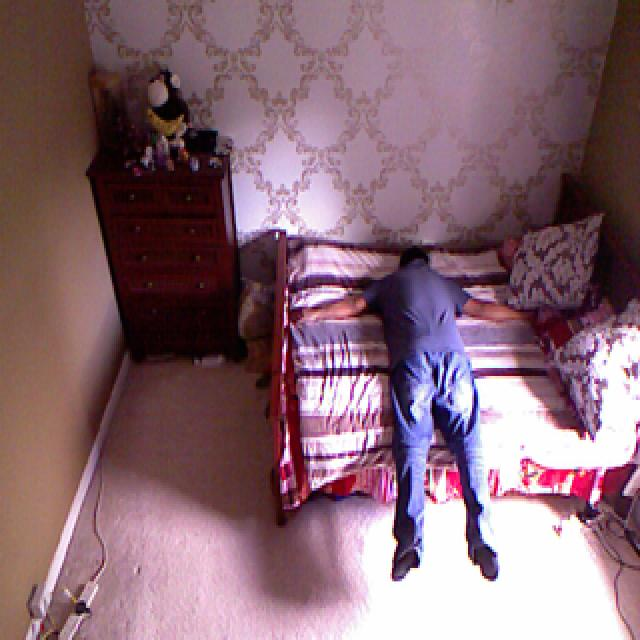lying: (292, 230, 546, 600)
